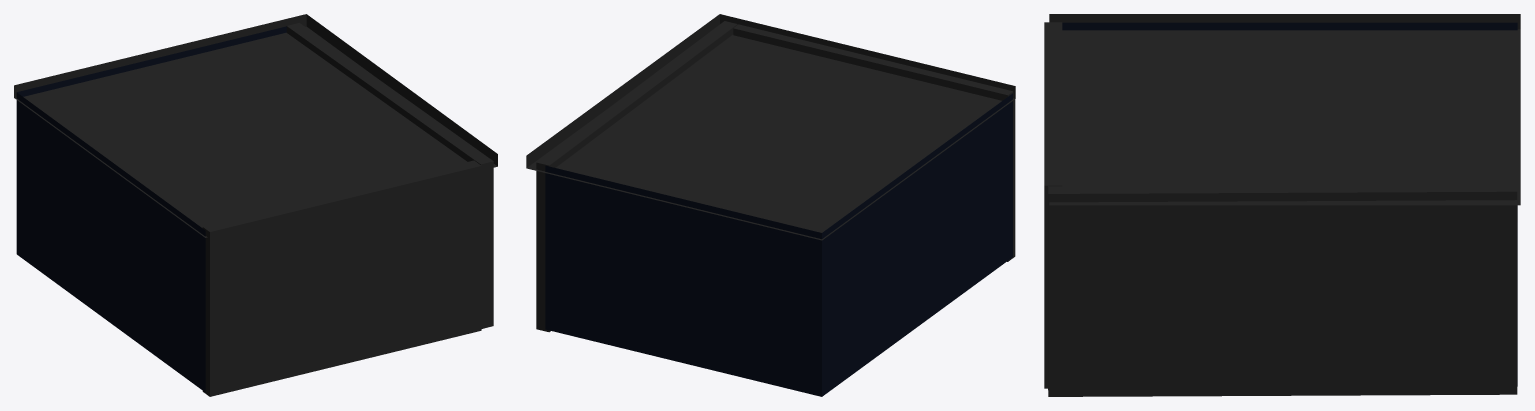
Rendered from habitacion esposo.glb.
The picture shows the model from 3 angles, left to right: view 1: azimuth 30°, elevation 25°; view 2: azimuth 150°, elevation 25°; view 3: azimuth 270°, elevation 25°; orthographic projection. The views are drawn at different scales.
Parts seen in each view (by area): view 1: Cube.029; view 2: Cube.029; view 3: Cube.029.
Part boxes in pixels (x1,y1,x2,y2): Cube.029: [14, 14, 497, 396]; Cube.029: [526, 14, 1015, 396]; Cube.029: [1044, 14, 1520, 396].
Size of the model in its own units: 3.78 by 2.1 by 4.33.
